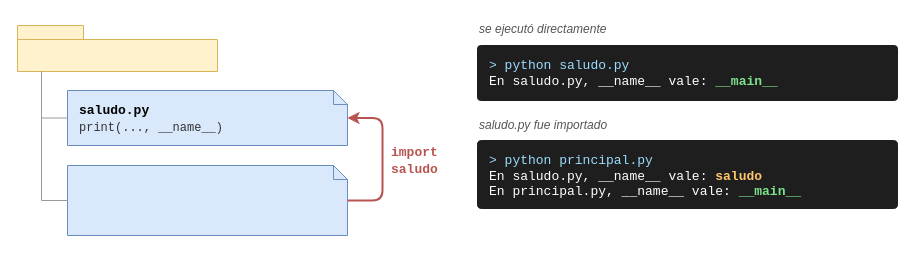
This 915x253 diagram has some shape labels left out. Here are the shapes that lost their labels. From the top down, the centre of each, then its label:
point 117,48: 0_name/
point 207,200: principal.py import saludo print(..., __name__)
